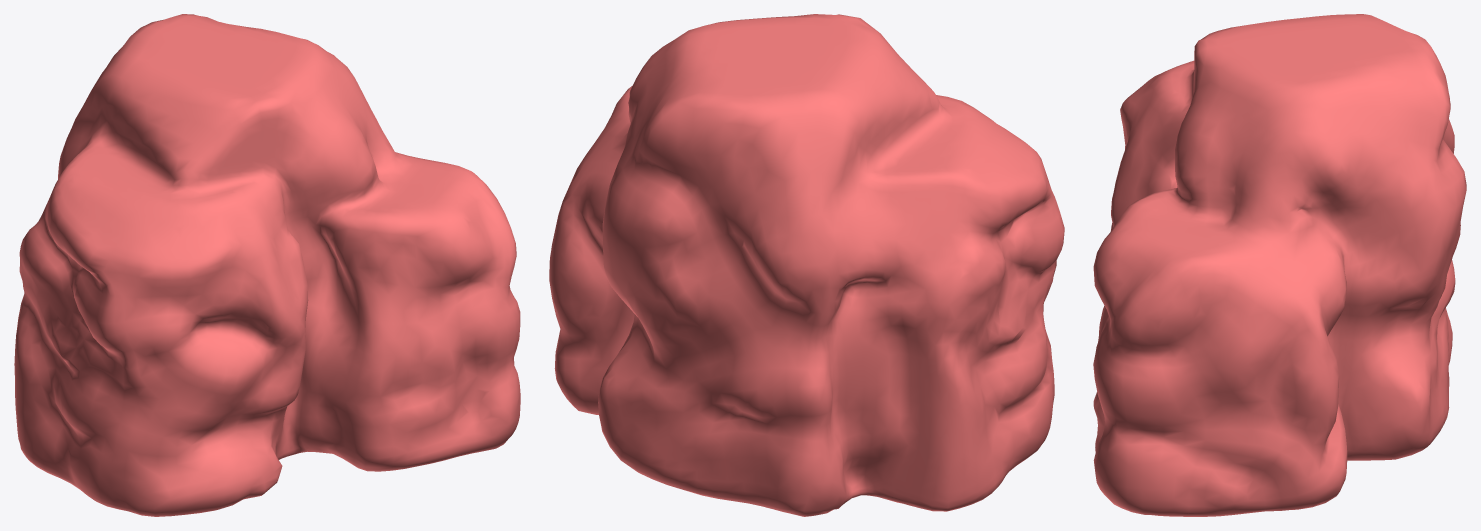
File: rock4.fbx
3 views of the same model, side by side, from view 1: azimuth 30°, elevation 25°; view 2: azimuth 150°, elevation 25°; view 3: azimuth 270°, elevation 25° (orthographic). The views are drawn at different scales.
Parts seen in each view (by area): view 1: PM3D_Cube3D_1; view 2: PM3D_Cube3D_1; view 3: PM3D_Cube3D_1.
Boxes of the visible parts, x1,y1,x2,y2 form: PM3D_Cube3D_1: [14, 14, 520, 516]; PM3D_Cube3D_1: [549, 14, 1064, 516]; PM3D_Cube3D_1: [1093, 14, 1466, 516].
Bounding box in the file's own units: 4.05 × 3.44 × 3.16.
